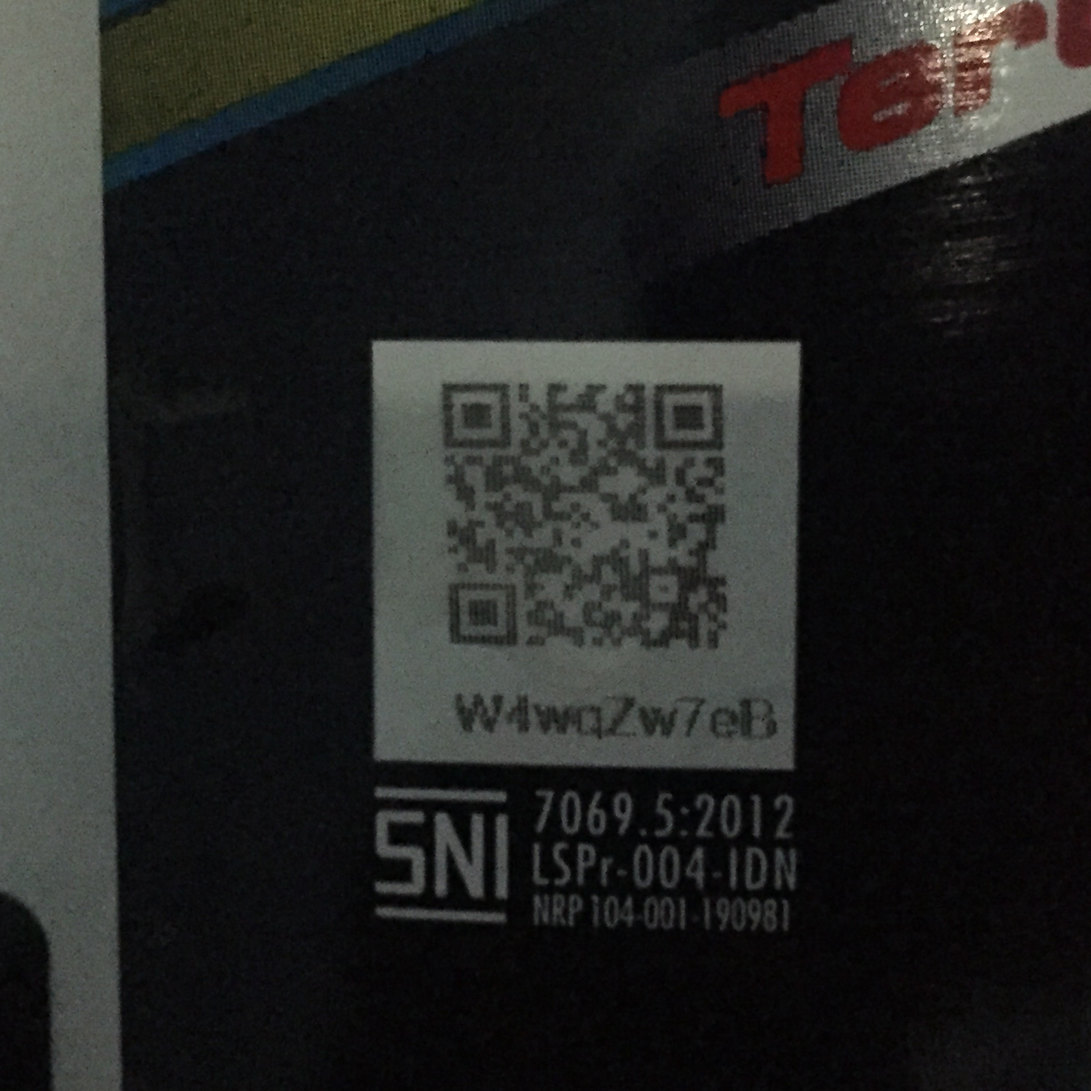QR-CODE: (431, 371, 747, 667)
